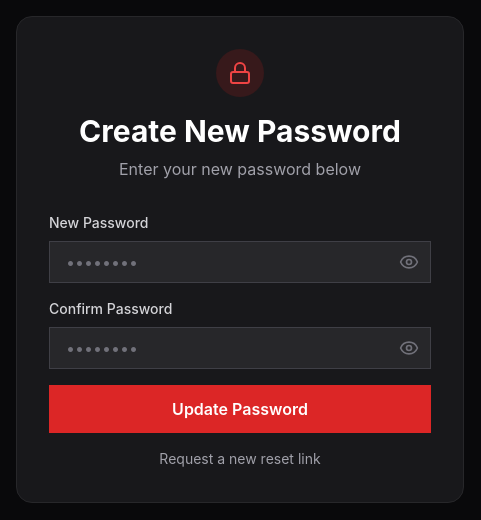
Test: auth entry safety › lets a recovery user explicitly request a new link without entering the app
The image size is (481, 520).
Click the button "Request a new reset link" at coordinates (240, 458), box x1=49 y1=448 x2=431 y2=468
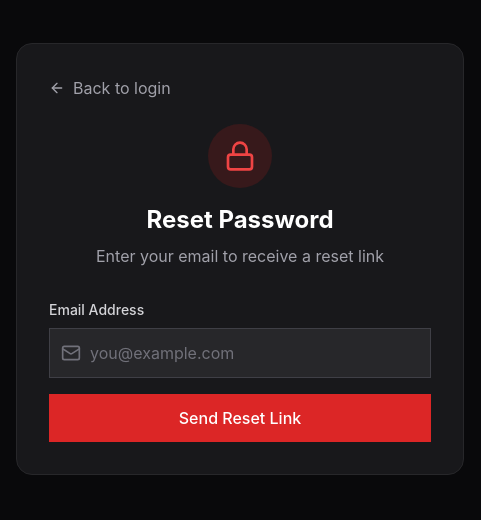
Check: the text "Send Reset Link" is shown, box x1=49 y1=394 x2=431 y2=442
